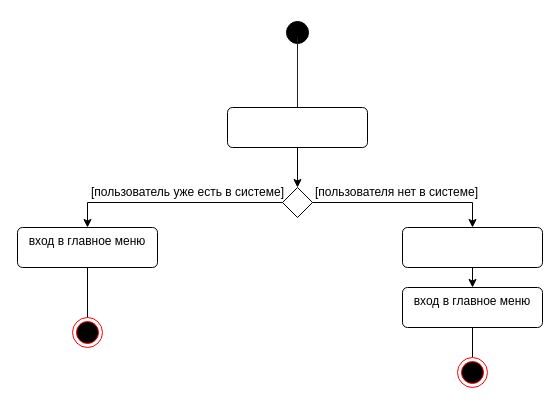
This 560x405 diagram has some shape labels left out. The box of each missing label's shape, as (x1, y1, x2, y2) in pixels:
Войти в систему: (226, 106, 368, 148)
сохранить пользователя в бд: (402, 226, 542, 268)
